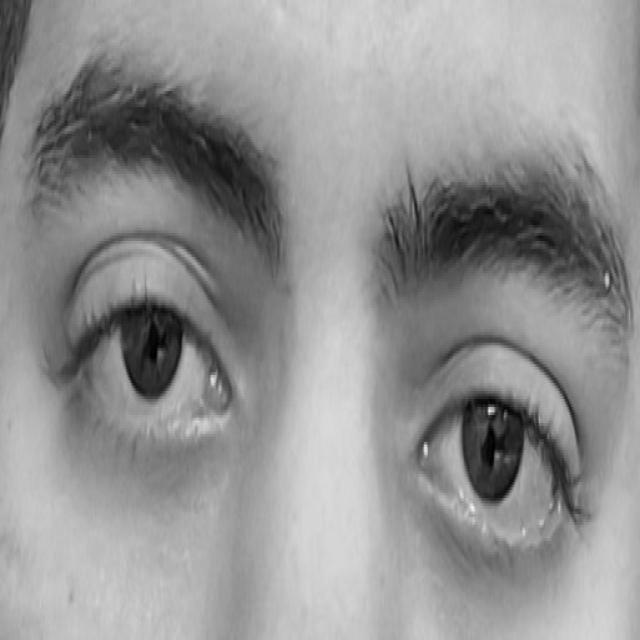real: (32, 76, 618, 568)
